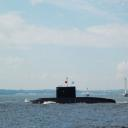submarine: (32, 87, 118, 105)
